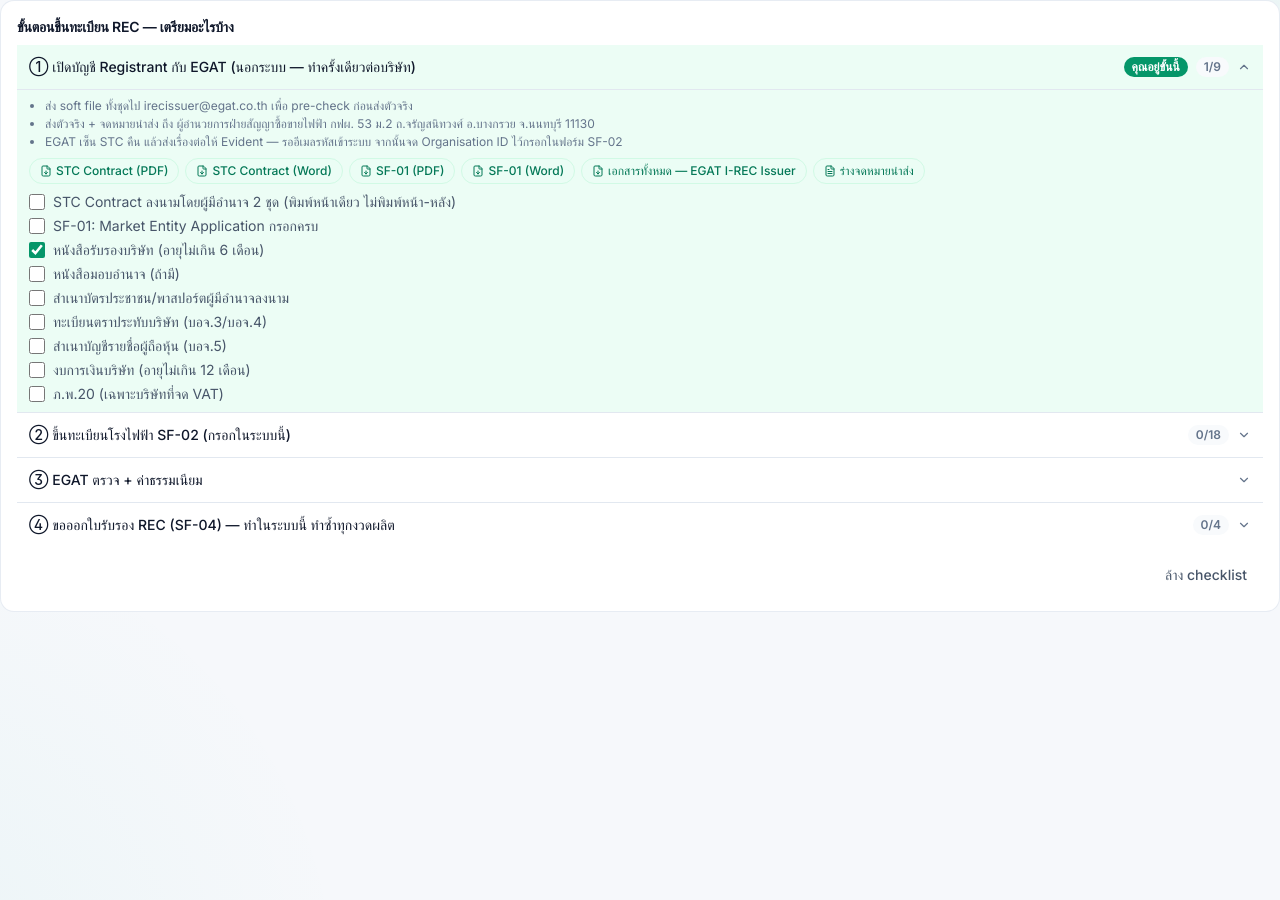
Test: cover letter draft › ticked checklist items appear as attachment lines in the letter
Click the button "ร่างจดหมายนำส่ง". click: (869, 171)
box: [813,158,925,184]
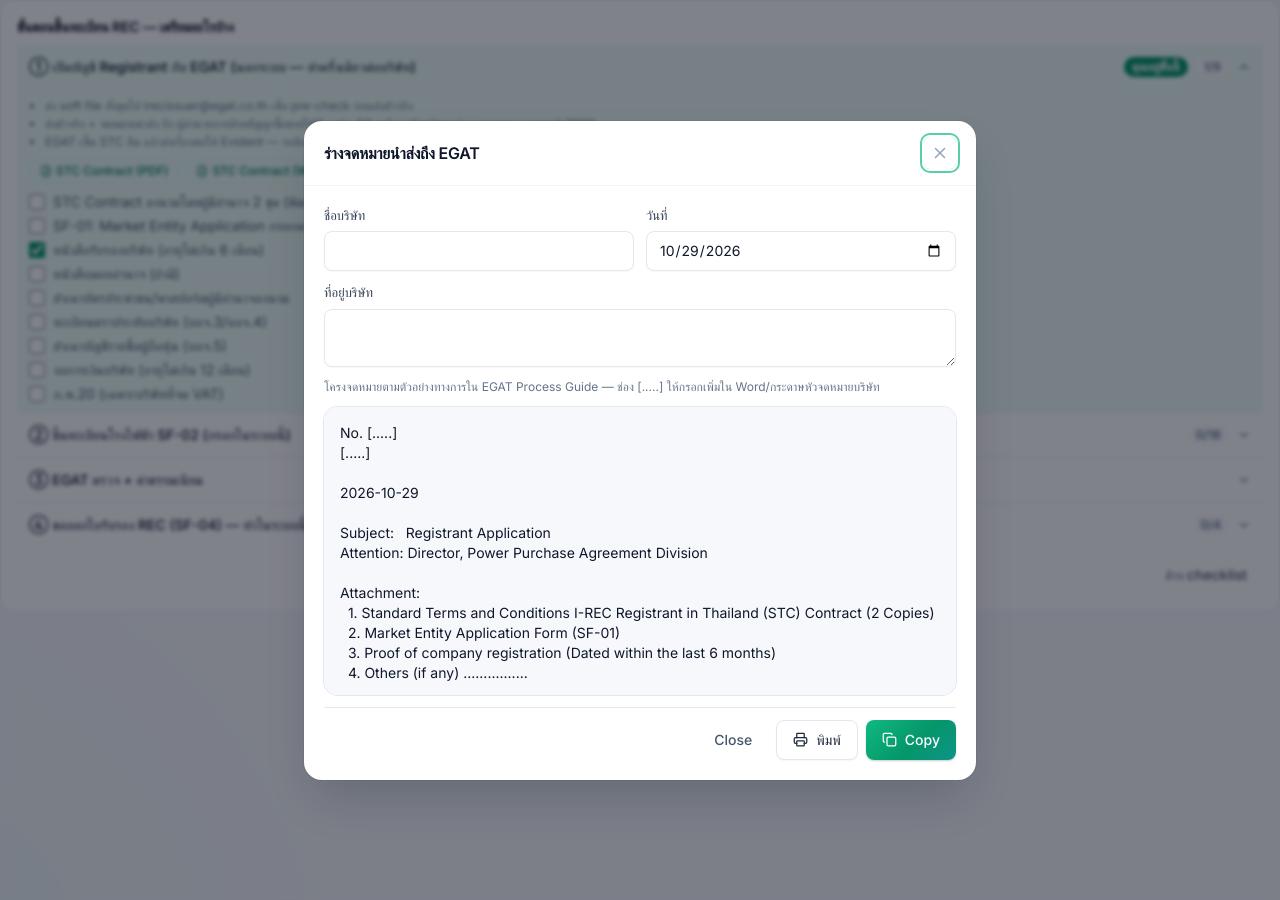
Now the text with test id "cover-letter-preview" shows "Proof of company registration", box [340,424,936,780]
